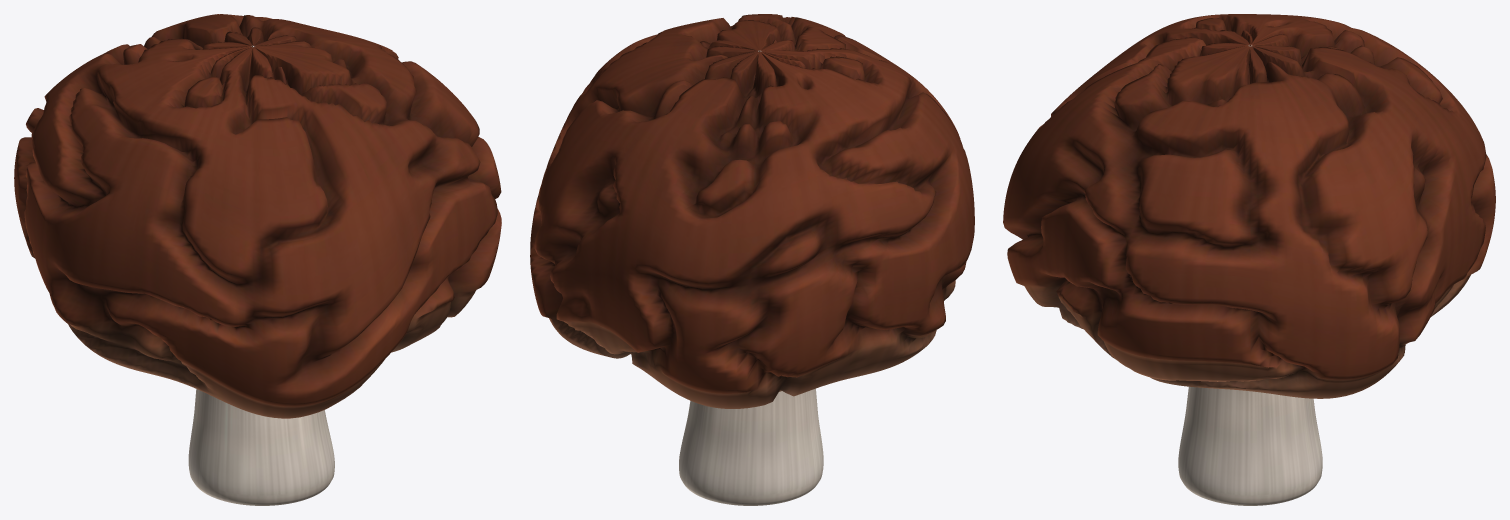
File: gyromitra-esculenta-drawn.glb
3 views of the same model, side by side, from view 1: azimuth 30°, elevation 25°; view 2: azimuth 150°, elevation 25°; view 3: azimuth 270°, elevation 25° (orthographic).
Bounding box in the file's own units: 0.8527 × 0.8924 × 0.9214.
Materials: 1 (1 with a texture image).
